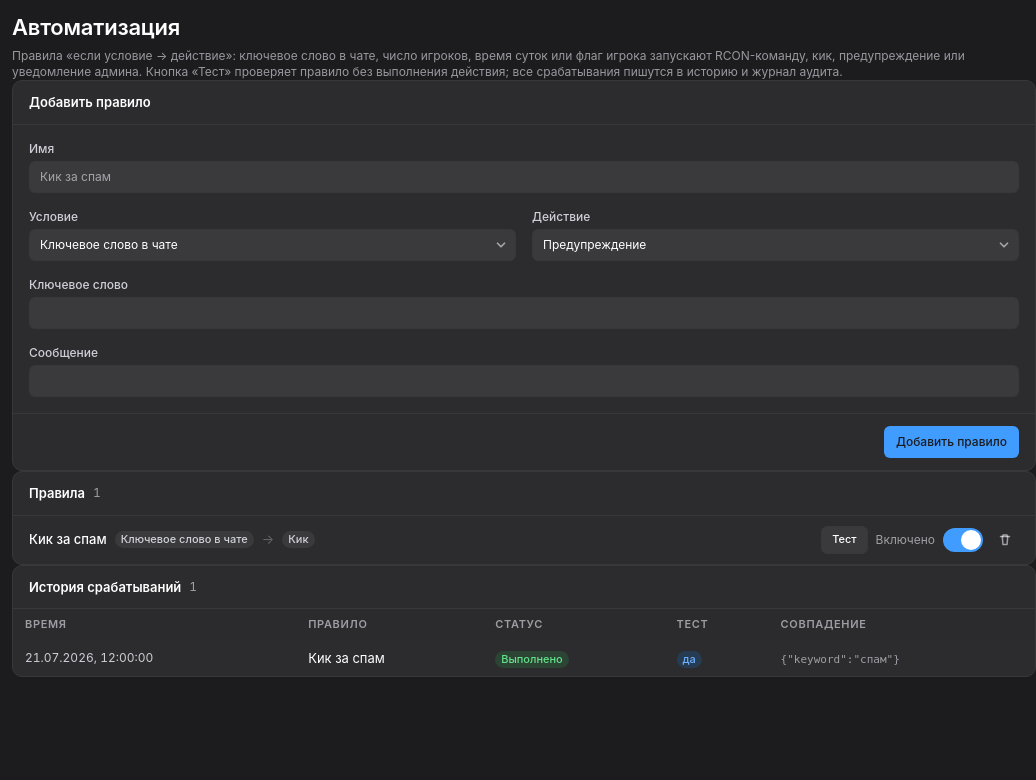
Scenario: AutomationPage › reports the outcome of a dry run without executing the action
Click the button "Тест".
click(844, 540)  # box [821,526,868,554]
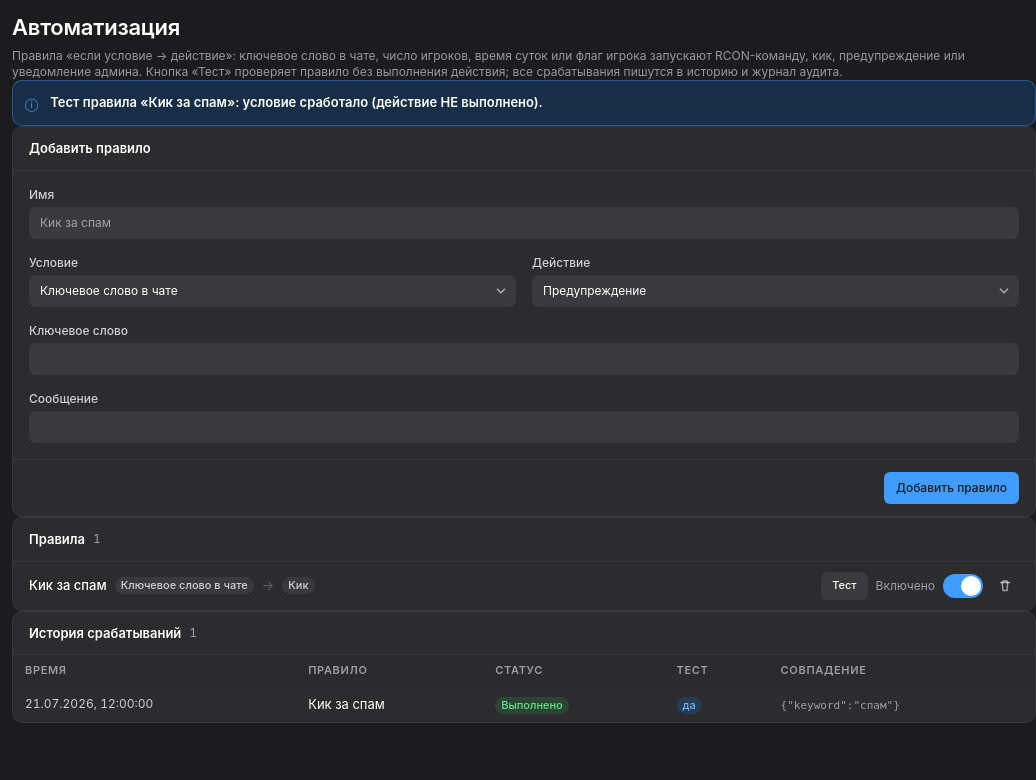
Expected: the text "условие сработало" is shown, [50,94,543,110]
